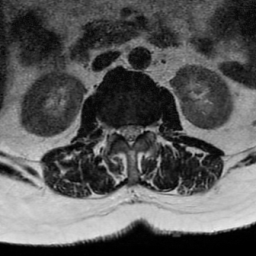CCS_normal: (126, 118, 135, 153)
LFS_stenosis: (143, 114, 150, 140)
LLS_normal: (135, 115, 143, 144)
RFS_severe_stenosis: (109, 115, 118, 142)
RLS_normal: (118, 116, 126, 146)
